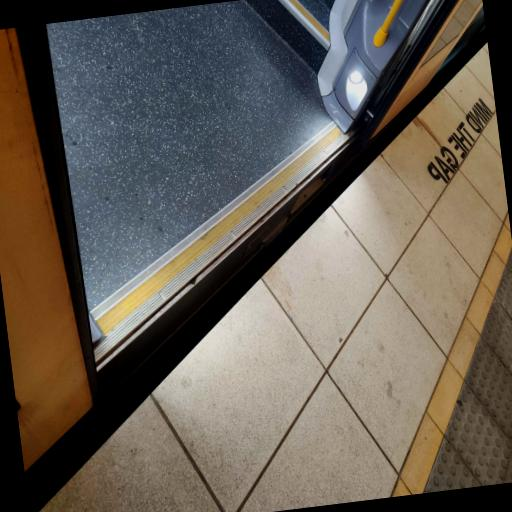gap: (25, 22, 489, 512)
